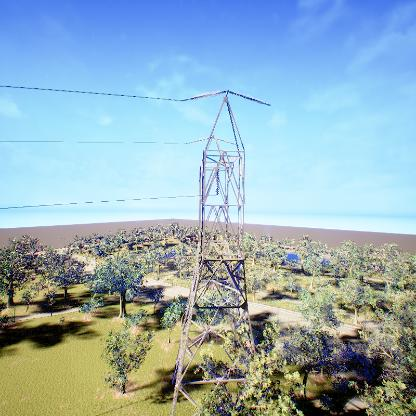tower: (171, 88, 274, 407)
